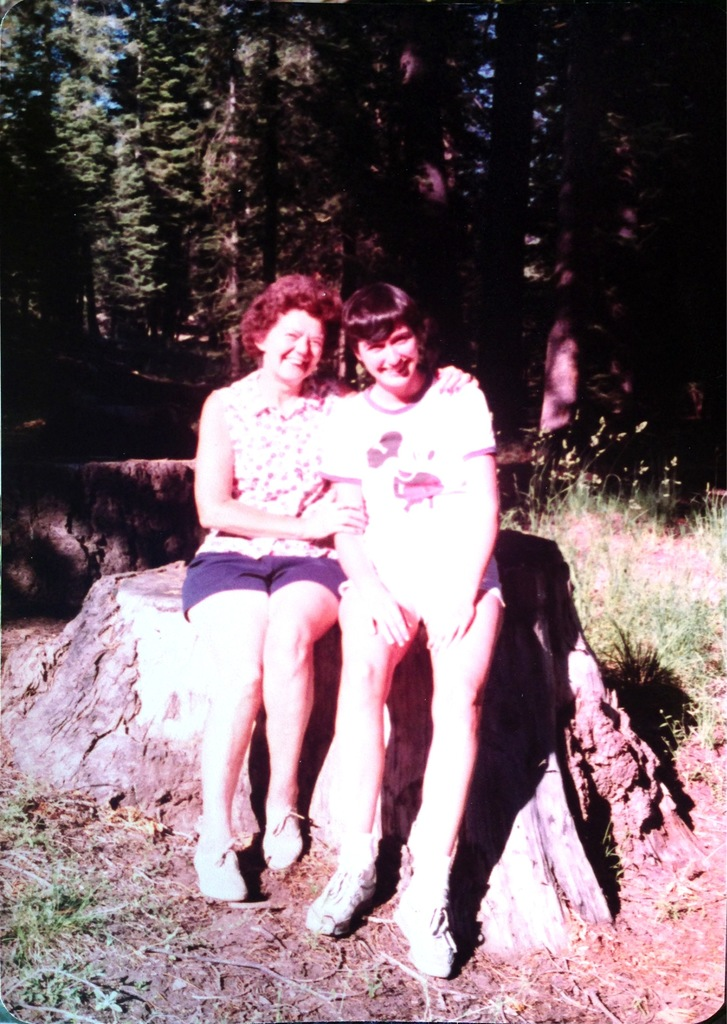Human_hand: (352, 579, 415, 648), (304, 487, 367, 539), (420, 596, 477, 652), (434, 362, 480, 398)
